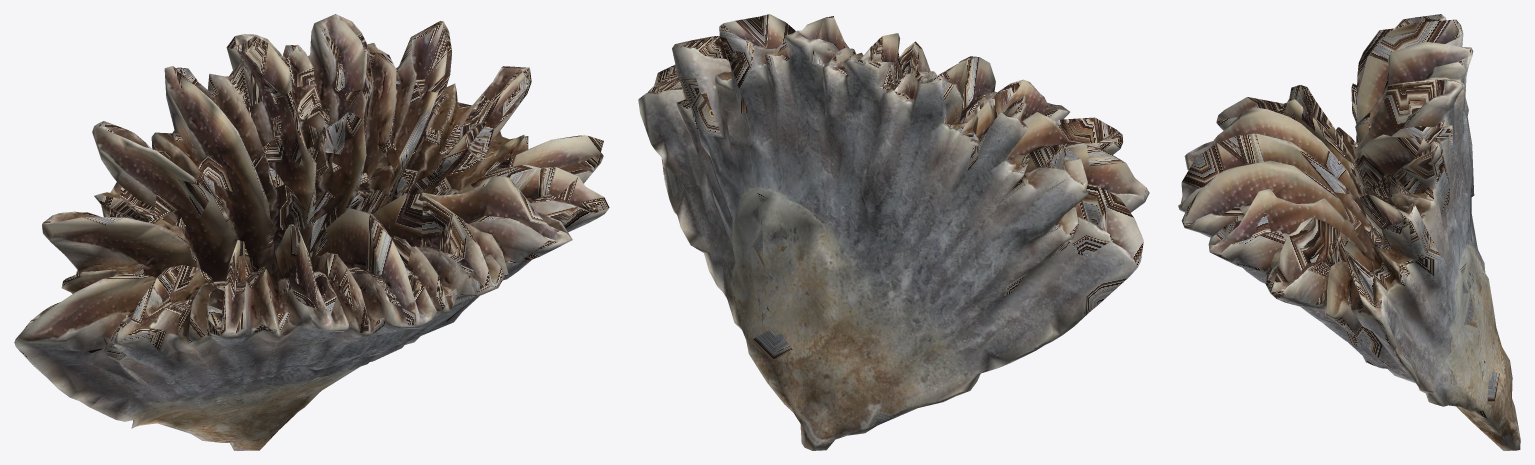
The model's file is coral.glb.
The picture shows the model from 3 angles, left to right: view 1: azimuth 30°, elevation 25°; view 2: azimuth 150°, elevation 25°; view 3: azimuth 270°, elevation 25°; orthographic projection. The views are drawn at different scales.
Parts seen in each view (by area): view 1: Flabellum_-Ulocyathus-_marenzelleri-150k; view 2: Flabellum_-Ulocyathus-_marenzelleri-150k; view 3: Flabellum_-Ulocyathus-_marenzelleri-150k.
Boxes of the visible parts, left/top/right/bottom form: Flabellum_-Ulocyathus-_marenzelleri-150k: left=14, top=14, right=609, bottom=450; Flabellum_-Ulocyathus-_marenzelleri-150k: left=638, top=14, right=1149, bottom=450; Flabellum_-Ulocyathus-_marenzelleri-150k: left=1178, top=14, right=1520, bottom=450.
Bounding box in the file's own units: 0.0422 × 0.0309 × 0.0244.
1 material, 1 textured.
